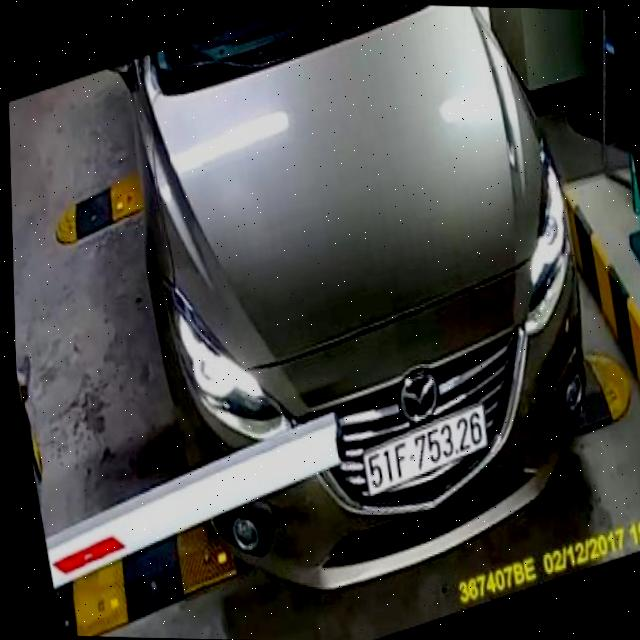car: (87, 1, 604, 599)
plate: (357, 403, 492, 498)
